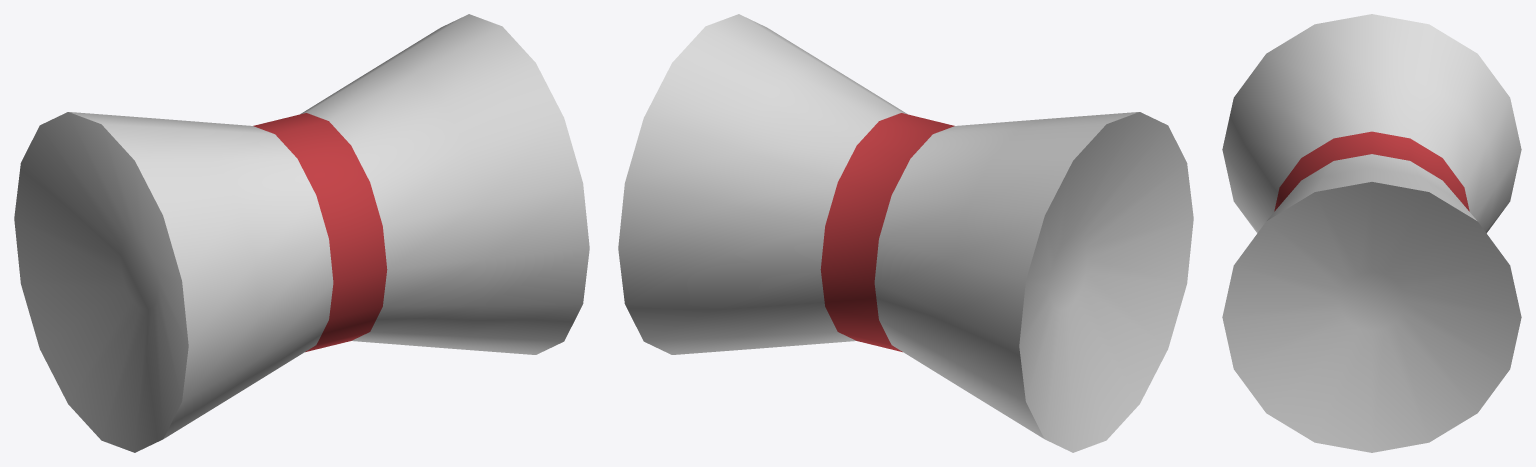
Rendered from hayebale.glb.
The picture shows the model from 3 angles, left to right: view 1: azimuth 30°, elevation 25°; view 2: azimuth 150°, elevation 25°; view 3: azimuth 270°, elevation 25°; orthographic projection. The views are drawn at different scales.
Parts seen in each view (by area): view 1: Cylinder.001; view 2: Cylinder.001; view 3: Cylinder.001.
Boxes of the visible parts, x1,y1,x2,y2 form: Cylinder.001: (14, 14, 589, 452); Cylinder.001: (618, 14, 1193, 452); Cylinder.001: (1222, 14, 1521, 452).
Size of the model in its own units: 2 by 1.51 by 1.51.
